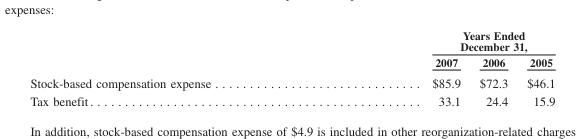table: (29, 28, 554, 107)
table column: (29, 28, 320, 107), (320, 28, 469, 107), (469, 28, 516, 107), (516, 28, 554, 107)
table column header: (29, 28, 554, 71)
table row: (29, 28, 554, 53), (29, 71, 554, 91), (29, 53, 554, 71), (29, 91, 554, 107)
table spanning cell: (320, 28, 554, 53)
